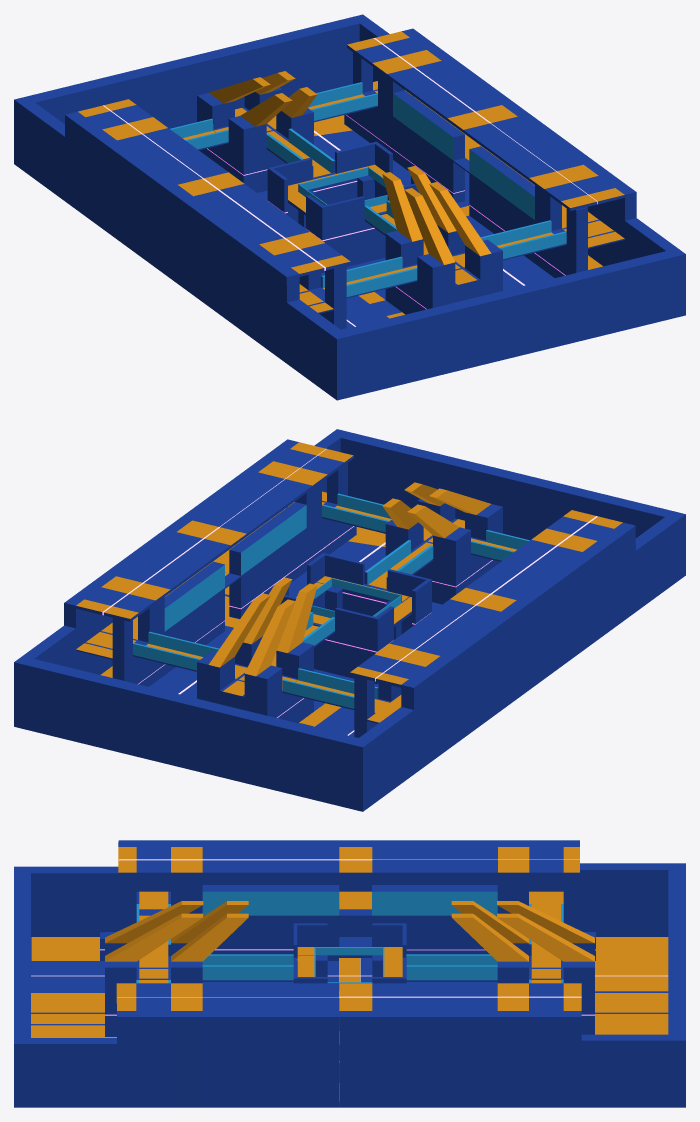
The model's file is map_fpsarena.glb.
The picture shows the model from 3 angles, top to bottom: view 1: azimuth 30°, elevation 25°; view 2: azimuth 150°, elevation 25°; view 3: azimuth 270°, elevation 25°; orthographic projection. The views are drawn at different scales.
Visible parts, largest first — view 1: Object_8, Object_10, Object_12, Object_14; view 2: Object_8, Object_10, Object_12, Object_14; view 3: Object_8, Object_10, Object_12, Object_14.
Part boxes in pixels (x1=…): Object_8: x1=14, y1=14, x2=685, y2=400; Object_10: x1=78, y1=31, x2=624, y2=318; Object_12: x1=170, y1=82, x2=566, y2=296; Object_14: x1=103, y1=38, x2=597, y2=326; Object_8: x1=14, y1=429, x2=685, y2=811; Object_10: x1=76, y1=442, x2=622, y2=726; Object_12: x1=133, y1=493, x2=529, y2=708; Object_14: x1=102, y1=448, x2=597, y2=735; Object_8: x1=14, y1=840, x2=685, y2=1107; Object_10: x1=31, y1=847, x2=668, y2=1101; Object_12: x1=136, y1=891, x2=563, y2=990; Object_14: x1=31, y1=859, x2=667, y2=1061.
Size of the model in its own units: 15.88 by 4.59 by 25.47.
